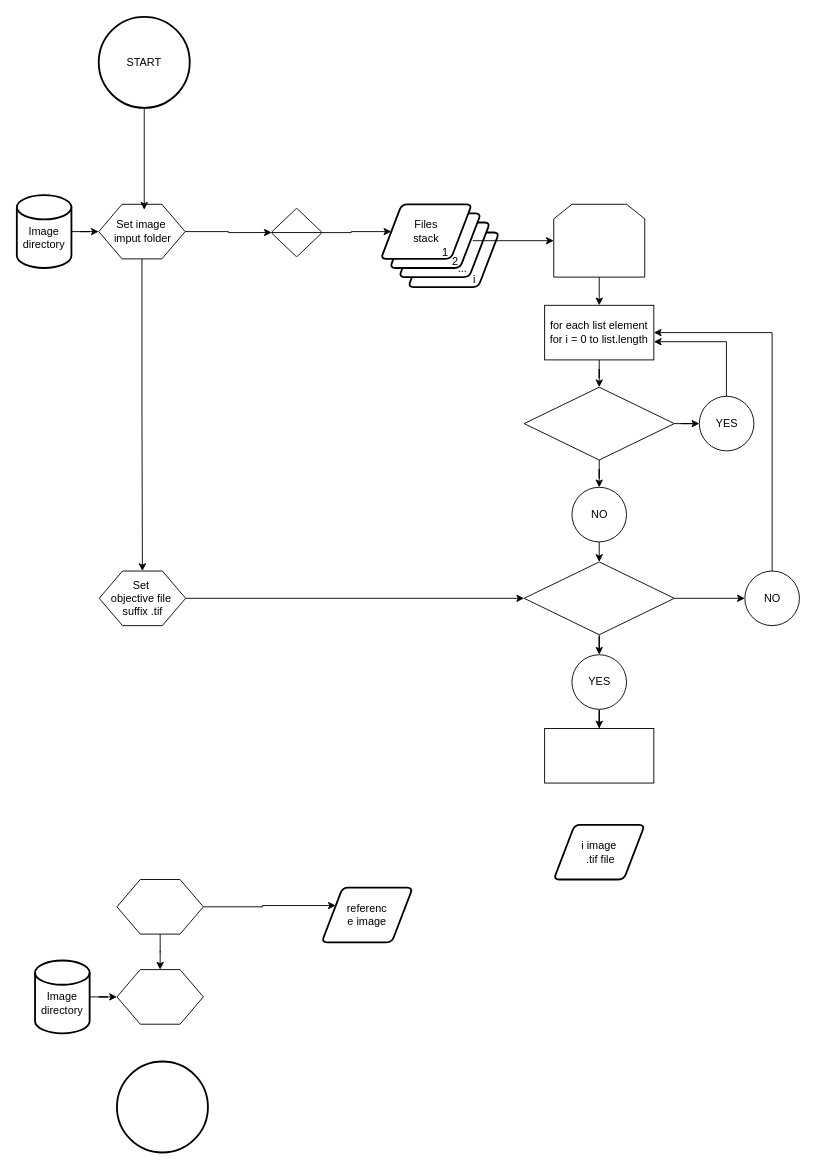
The diagram is 815 pixels wide and 1168 high, and some of its shapes have lost their labels. Each missing label, with the centre of its shape:
END: (162,1106)
End with suffix (.tif): (598,598)
Is directory?: (598,423)
List files by name: (296,232)
Procces i image .tif file: (599,755)
Set image output folder: (159,996)
Set reference image: (159,906)
Start loop pr each element: (599,240)
